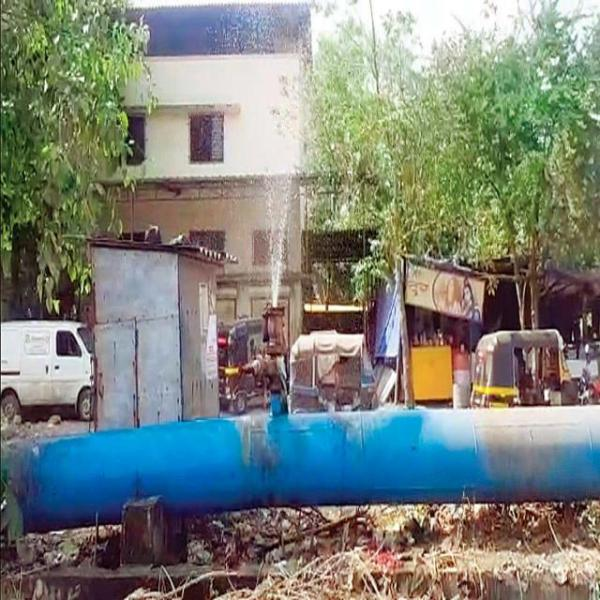leak: (254, 238, 324, 378)
